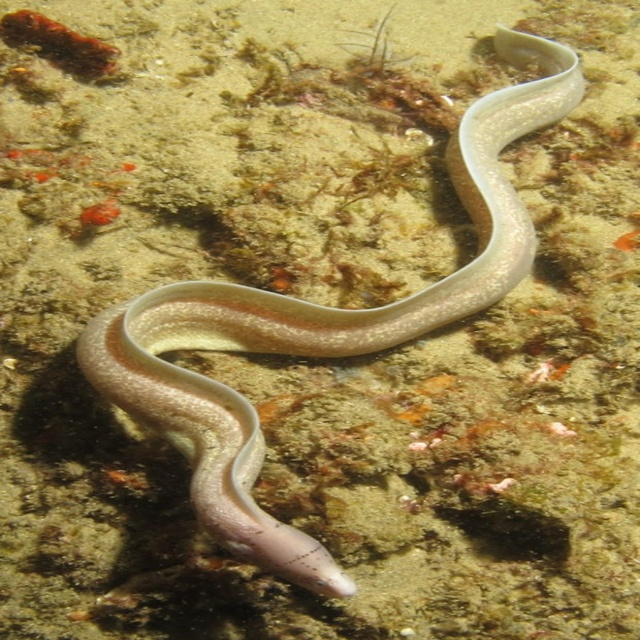Snake: (77, 22, 584, 598)
